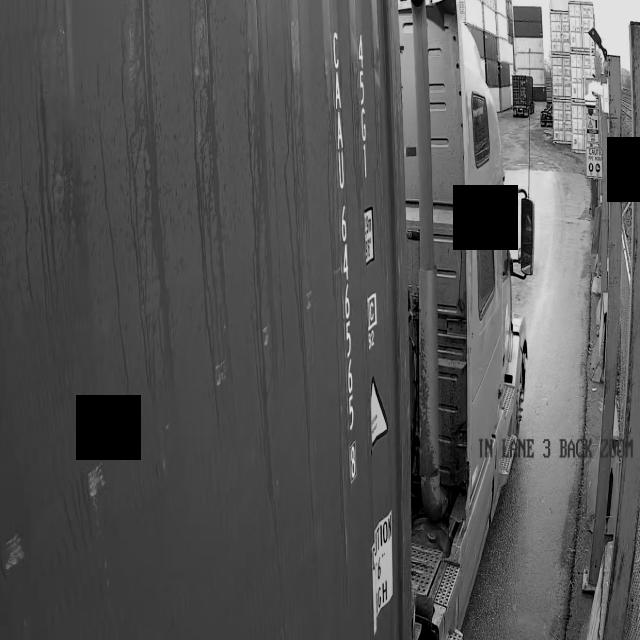container_side_no: (326, 23, 364, 489)
truck_with_container: (0, 0, 536, 640)
